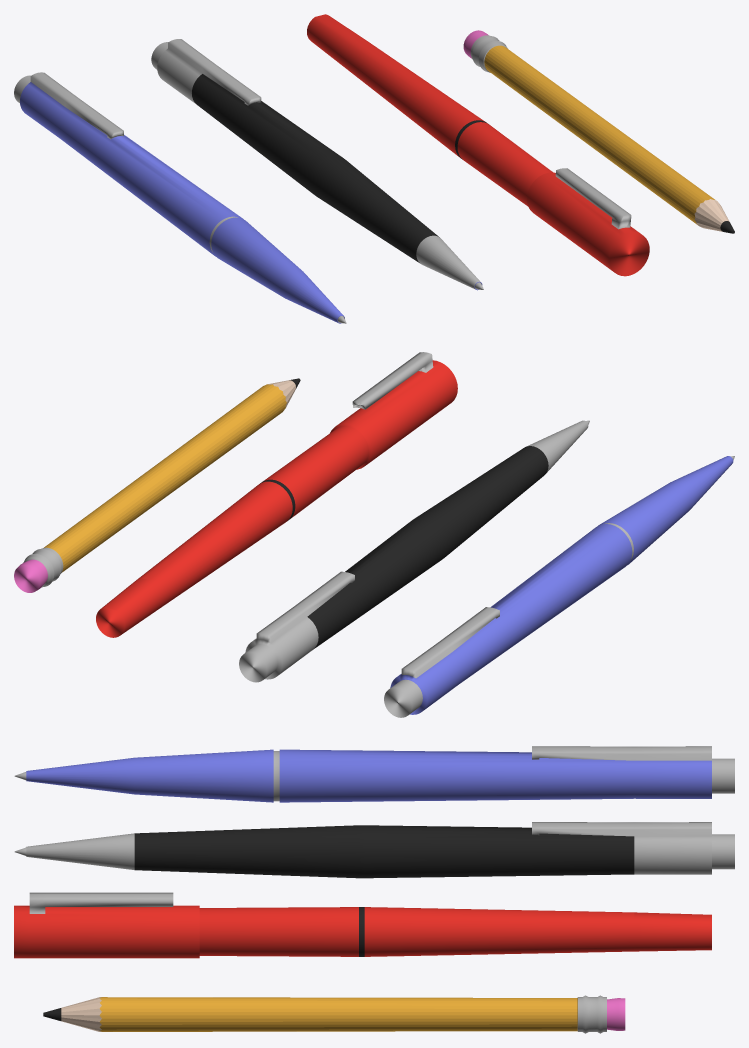
File: pens.fbx
3 views of the same model, one above another, from view 1: azimuth 30°, elevation 25°; view 2: azimuth 150°, elevation 25°; view 3: azimuth 270°, elevation 25° (orthographic). The views are drawn at different scales.
Parts seen in each view (by area): view 1: Cylinder.002, Cylinder, Cylinder.001, Cylinder.003; view 2: Cylinder.002, Cylinder, Cylinder.001, Cylinder.003; view 3: Cylinder.002, Cylinder, Cylinder.001, Cylinder.003.
Part boxes in pixels (<box>): Cylinder.002: <box>307,14,649,276</box>; Cylinder: <box>14,72,346,323</box>; Cylinder.001: <box>151,39,483,290</box>; Cylinder.003: <box>463,30,734,233</box>; Cylinder.002: <box>96,352,457,637</box>; Cylinder: <box>384,456,734,717</box>; Cylinder.001: <box>239,420,589,682</box>; Cylinder.003: <box>14,378,300,592</box>; Cylinder.002: <box>14,892,711,958</box>; Cylinder: <box>14,746,734,802</box>; Cylinder.001: <box>14,822,734,878</box>; Cylinder.003: <box>43,995,625,1033</box>.
Size of the model in its own units: 496 by 70.9 by 630.
